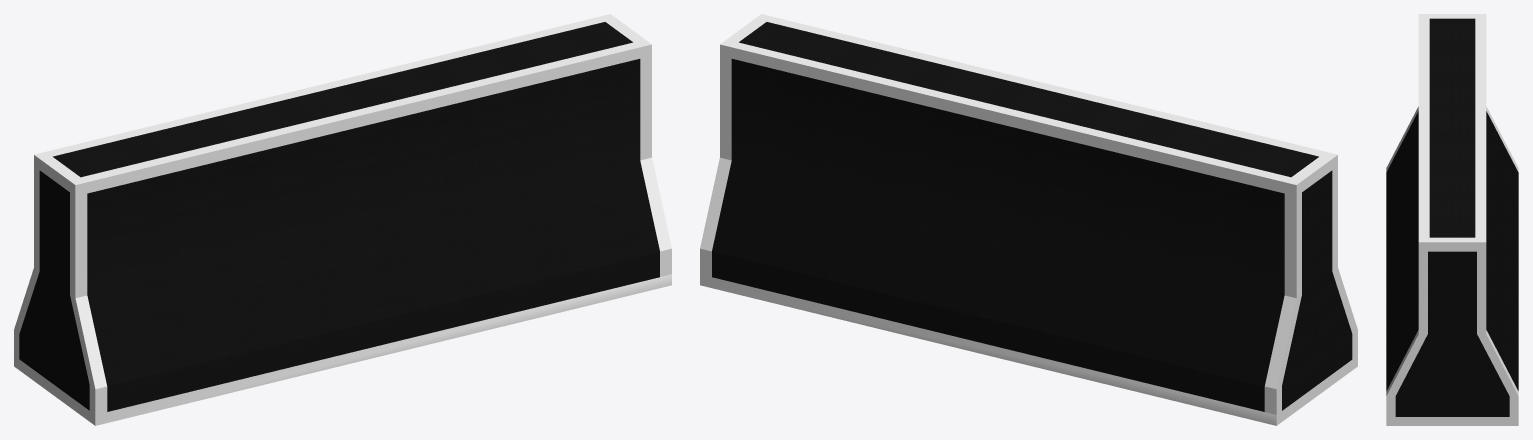
The model's file is Road Block.FBX.
3 views of the same model, side by side, from view 1: azimuth 30°, elevation 25°; view 2: azimuth 150°, elevation 25°; view 3: azimuth 270°, elevation 25° (orthographic). The views are drawn at different scales.
Visible parts, largest first — view 1: Road Block; view 2: Road Block; view 3: Road Block.
Boxes of the visible parts, <box> form: Road Block: <box>14,14,671,425</box>; Road Block: <box>700,14,1357,425</box>; Road Block: <box>1386,14,1518,425</box>.
Bounding box in the file's own units: 157 × 59.06 × 38.49.
